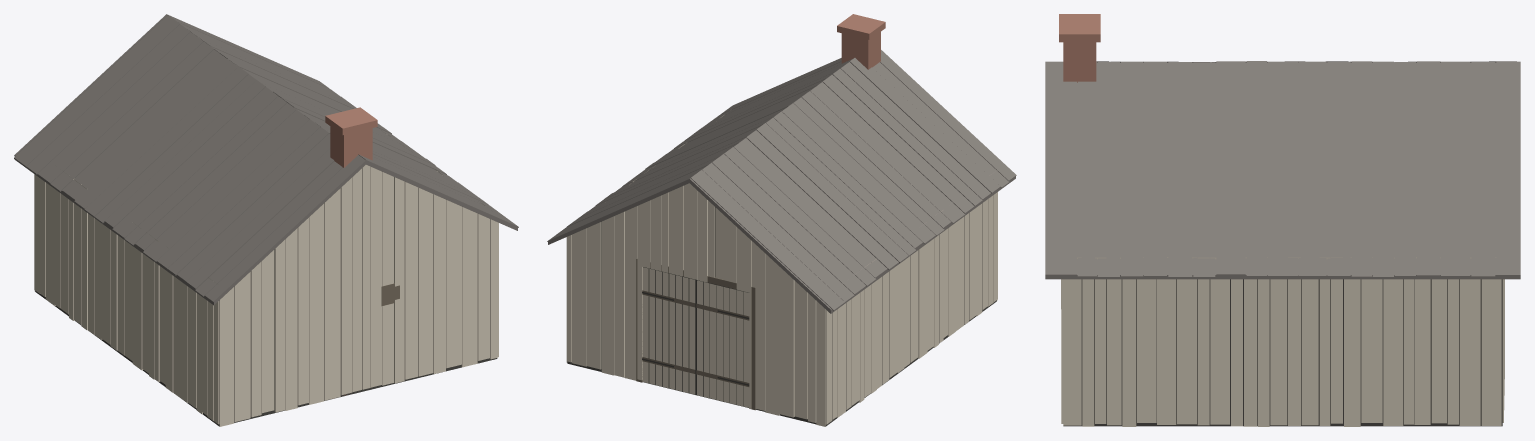
Rendered from recon_1835_blk_randolph_clark_w1_10__inferred_1835.glb.
3 renders of one model, left to right at view 1: azimuth 30°, elevation 25°; view 2: azimuth 150°, elevation 25°; view 3: azimuth 270°, elevation 25°, orthographic. The views are drawn at different scales.
Visible parts, largest first — view 1: recon_1835_blk_randolph_clark_w1_10__inferred_1835; view 2: recon_1835_blk_randolph_clark_w1_10__inferred_1835; view 3: recon_1835_blk_randolph_clark_w1_10__inferred_1835.
Boxes of the visible parts, x1,y1,x2,y2 form: recon_1835_blk_randolph_clark_w1_10__inferred_1835: (14,14,518,426); recon_1835_blk_randolph_clark_w1_10__inferred_1835: (547,14,1016,426); recon_1835_blk_randolph_clark_w1_10__inferred_1835: (1045,14,1520,426).
Size of the model in its own units: 7.75 by 6.47 by 8.67.
